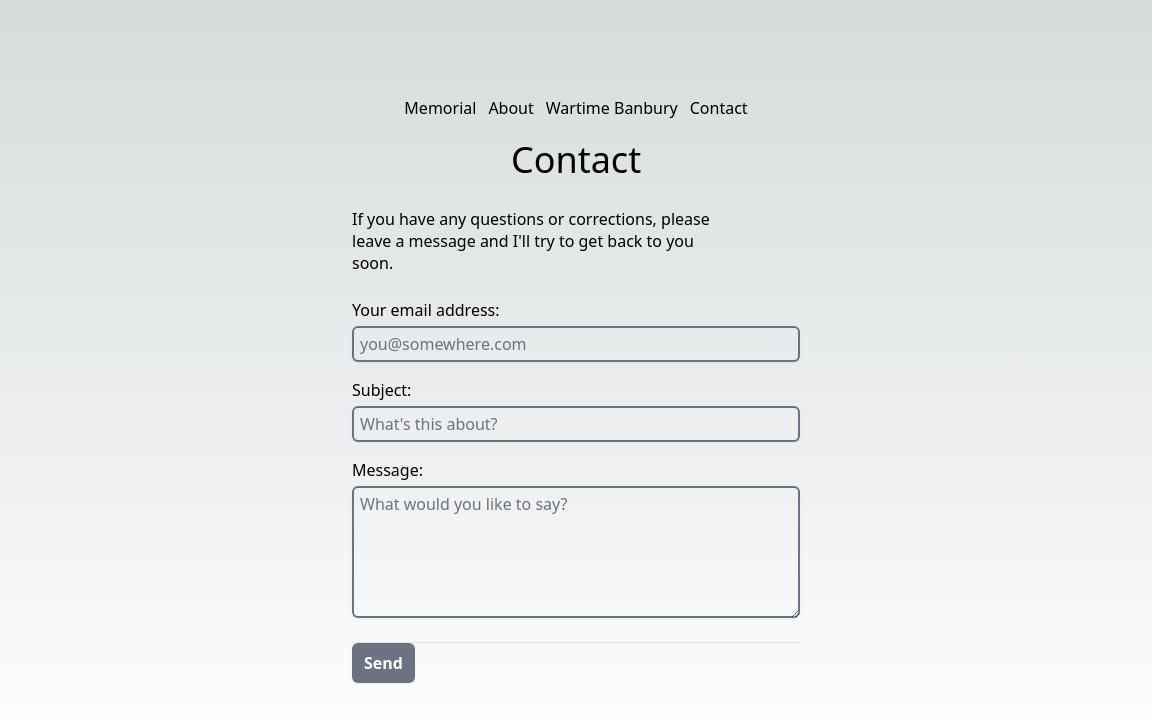
Test: The contact page › sends an email and returns a message when the form is submitted
This screenshot has width=1152, height=720.
Step 1. Type "test@example.com" into the field labelled "Your email address:" → point(576, 344), box [352,326,800,362]
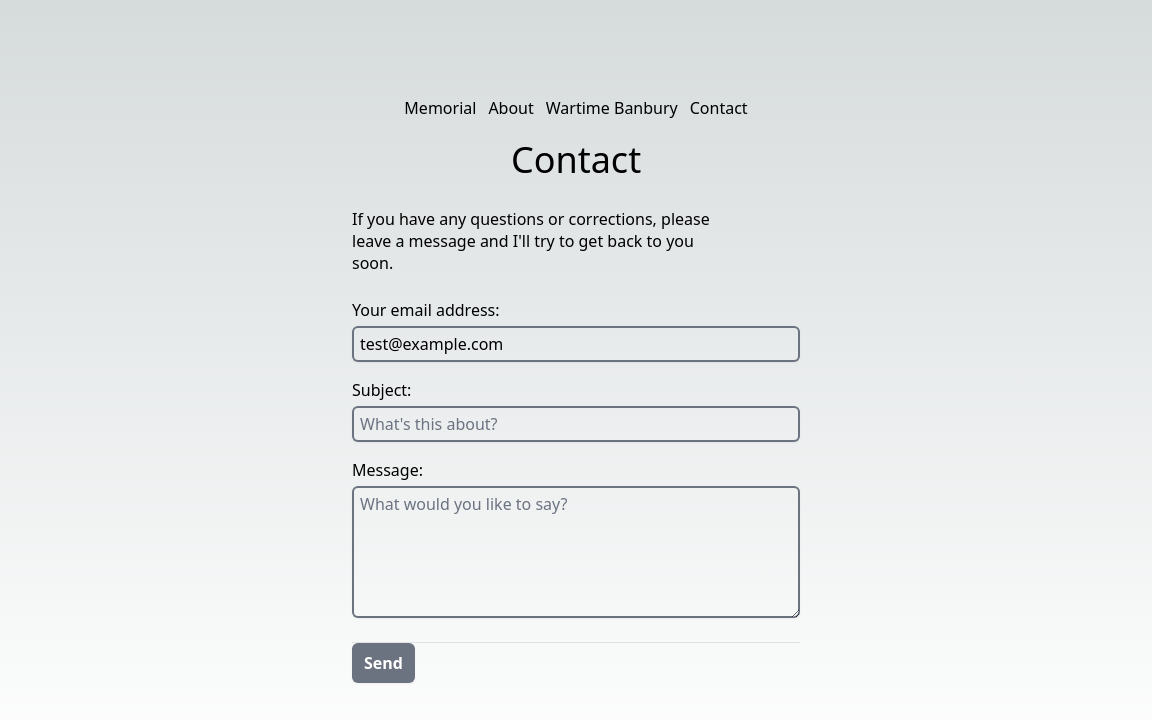
Step 2. Type "Test subject" into the field labelled "Subject:" → point(576, 424), box [352,406,800,442]
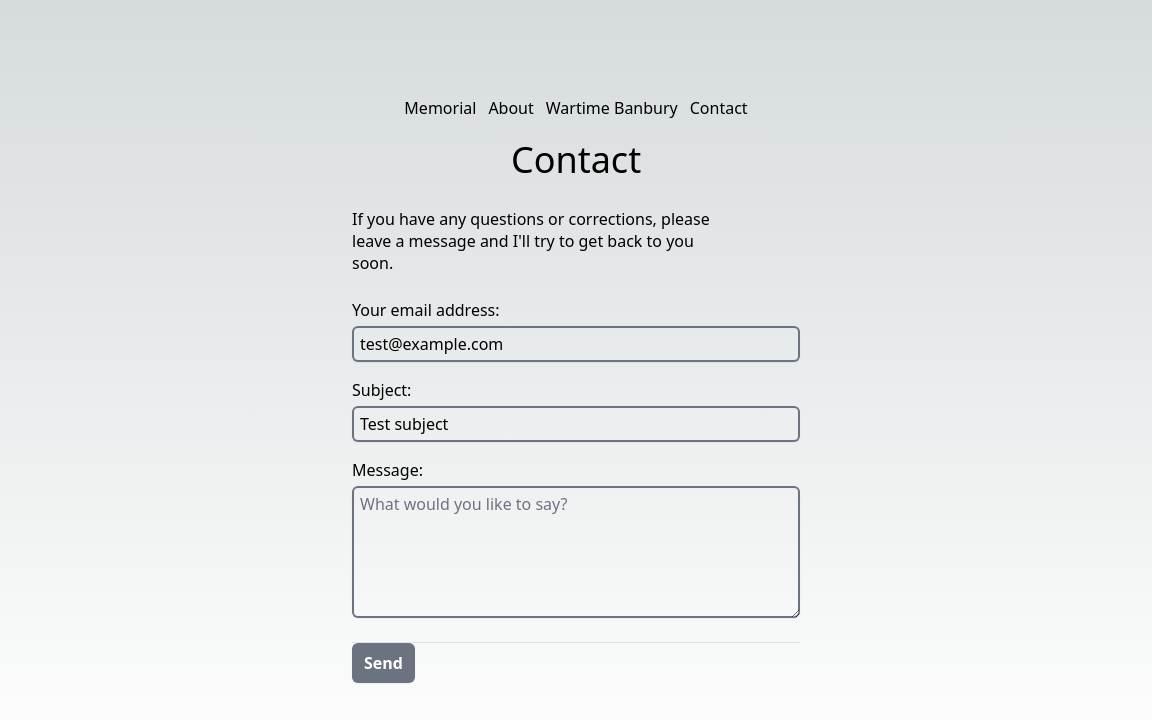
Step 3. Type "Test message" into the text box labelled "Message:" → point(576, 552), box [352,486,800,618]
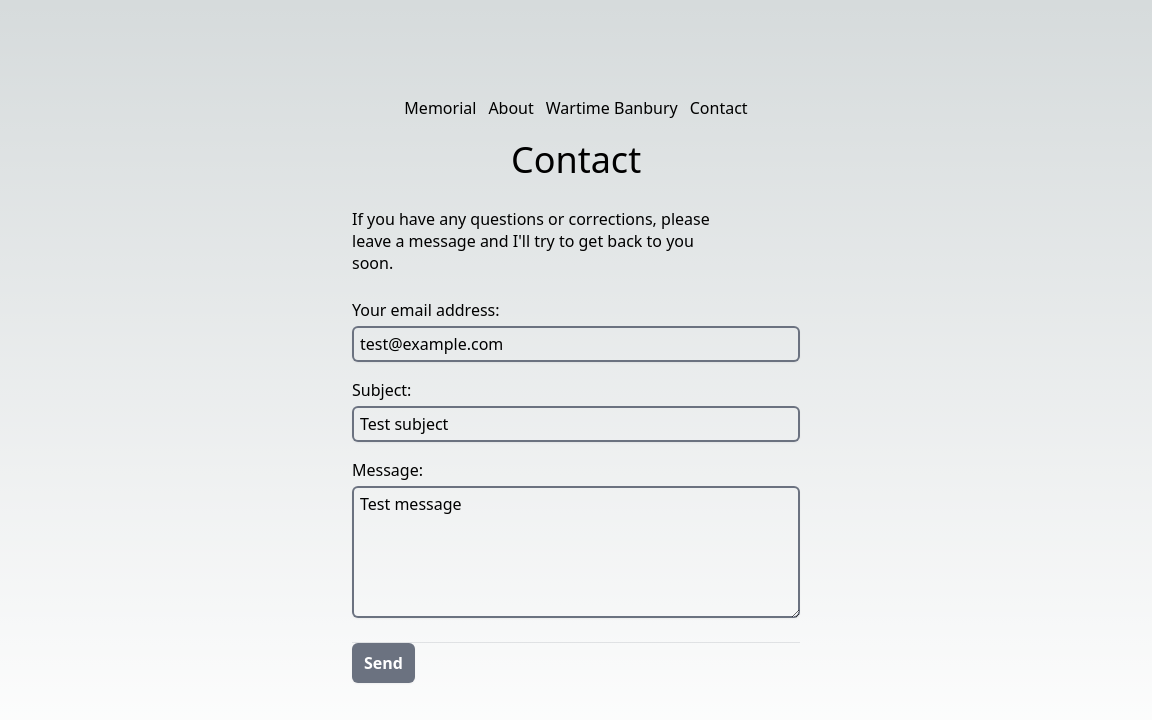
Step 4. Click the button → point(383, 663), box [352,643,415,683]
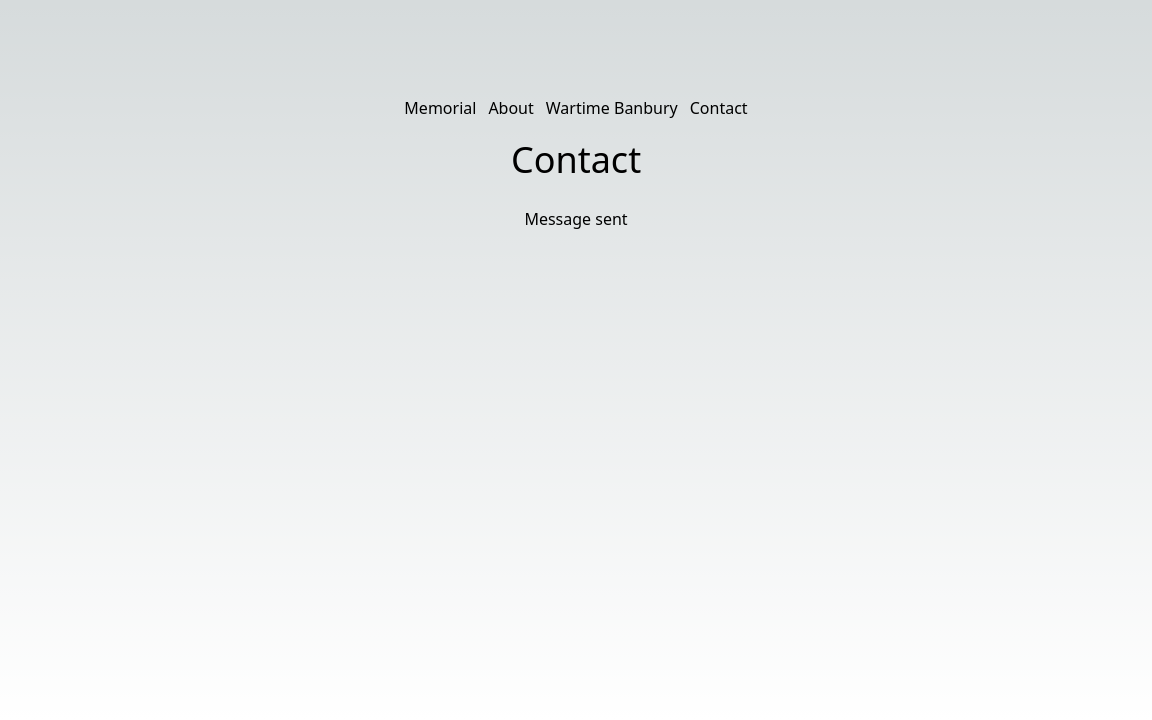
Expected: the text "Message sent" is shown, [524,208,628,230]
